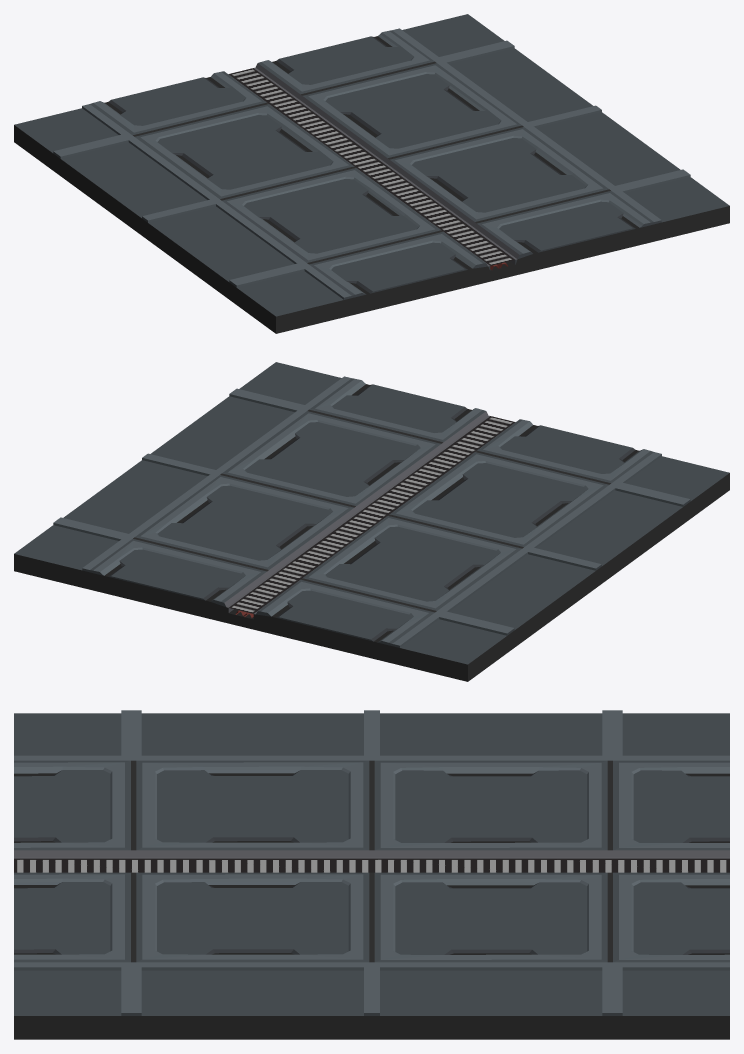
File: SM_Bld_Floor_04.fbx
The picture shows the model from 3 angles, top to bottom: view 1: azimuth 30°, elevation 25°; view 2: azimuth 150°, elevation 25°; view 3: azimuth 270°, elevation 25°; orthographic projection. The views are drawn at different scales.
Visible parts, largest first — view 1: SM_Bld_Floor_04; view 2: SM_Bld_Floor_04; view 3: SM_Bld_Floor_04.
Part boxes in pixels (x1,y1,x2,y2): SM_Bld_Floor_04: (14,14,729,333); SM_Bld_Floor_04: (14,362,729,681); SM_Bld_Floor_04: (14,710,729,1039).
Size of the model in its own units: 500 by 21.2 by 500.
Materials: 1 (1 with a texture image).
